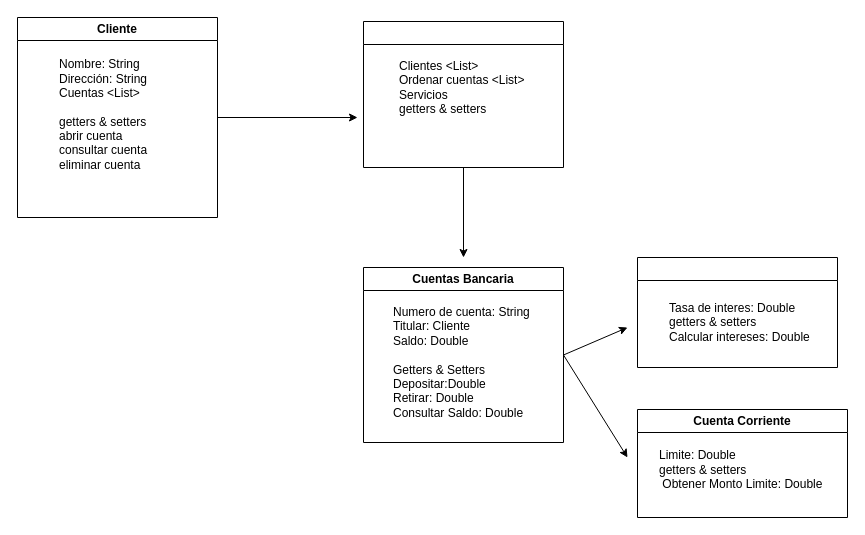
This 865x535 diagram has some shape labels left out. Each missing label, with the box of its shape:
Bnaco: (362, 20, 564, 168)
Cuenta Ahorro: (636, 256, 838, 368)
